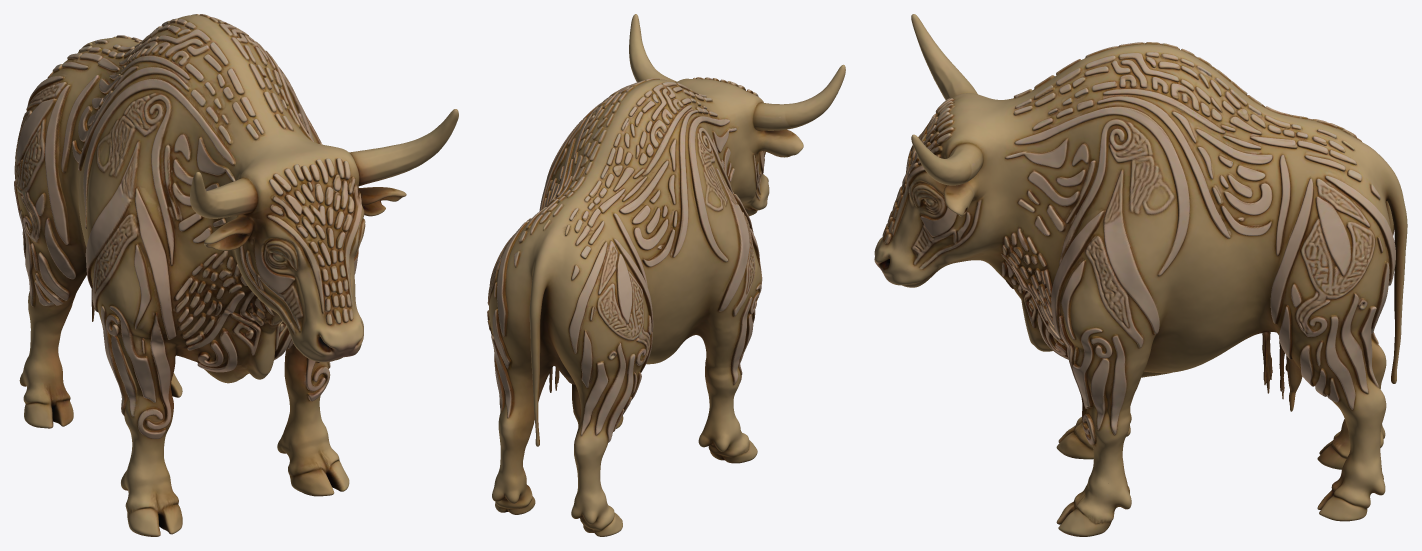
The model's file is 9-el-toro-dorado-de-la-peña-optimized.glb.
The picture shows the model from 3 angles, left to right: view 1: azimuth 30°, elevation 25°; view 2: azimuth 150°, elevation 25°; view 3: azimuth 270°, elevation 25°; orthographic projection. The views are drawn at different scales.
Visible parts, largest first — view 1: tripo_node_7c1bf430-21a2-4c21-825a-7bc8cb37b39e; view 2: tripo_node_7c1bf430-21a2-4c21-825a-7bc8cb37b39e; view 3: tripo_node_7c1bf430-21a2-4c21-825a-7bc8cb37b39e.
Part boxes in pixels (x1,y1,x2,y2): tripo_node_7c1bf430-21a2-4c21-825a-7bc8cb37b39e: (14, 14, 458, 536); tripo_node_7c1bf430-21a2-4c21-825a-7bc8cb37b39e: (487, 14, 845, 536); tripo_node_7c1bf430-21a2-4c21-825a-7bc8cb37b39e: (874, 14, 1407, 536).
Size of the model in its own units: 0.5495 by 0.9159 by 1.
Materials: 1 (1 with a texture image).
